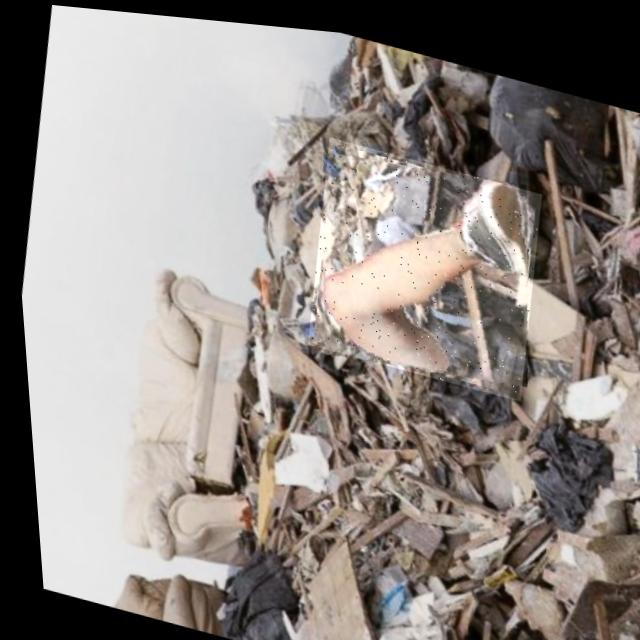Person in Rubble: (290, 127, 552, 393)
